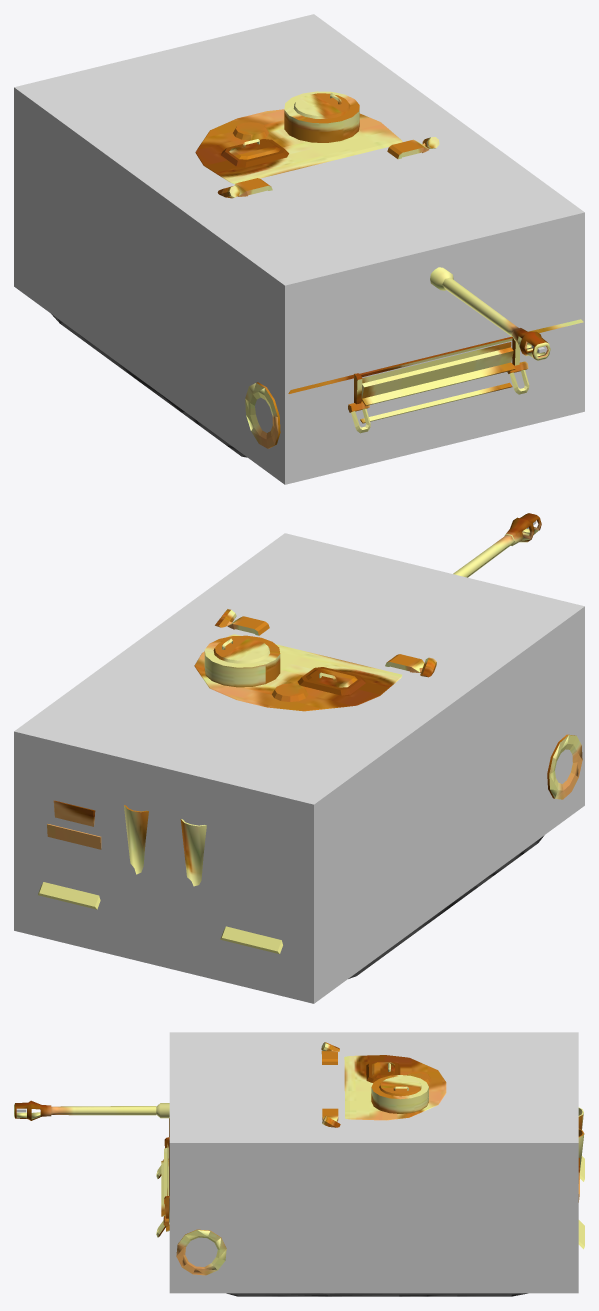
The model's file is tigerIPaintedAABBv2.glb.
The picture shows the model from 3 angles, top to bottom: view 1: azimuth 30°, elevation 25°; view 2: azimuth 150°, elevation 25°; view 3: azimuth 270°, elevation 25°; orthographic projection. The views are drawn at different scales.
Parts seen in each view (by area): view 1: aabbBox, turret, hull, gun, track; view 2: aabbBox, turret, hull, gun, track; view 3: aabbBox, turret, hull, gun, track.
Boxes of the visible parts, x1,y1,x2,y2 form: aabbBox: [14, 14, 584, 484]; turret: [195, 91, 439, 198]; hull: [245, 319, 583, 448]; gun: [430, 267, 550, 360]; track: [51, 314, 247, 457]; aabbBox: [14, 533, 584, 1003]; turret: [194, 609, 436, 711]; hull: [38, 734, 582, 953]; gun: [453, 513, 541, 577]; track: [348, 835, 544, 978]; aabbBox: [169, 1032, 578, 1293]; turret: [321, 1042, 446, 1127]; hull: [156, 1107, 584, 1275]; gun: [14, 1100, 169, 1120]; track: [226, 1293, 527, 1296].
Size of the model in its own units: 36.34 by 26.58 by 78.5.
2 materials, 1 textured.
